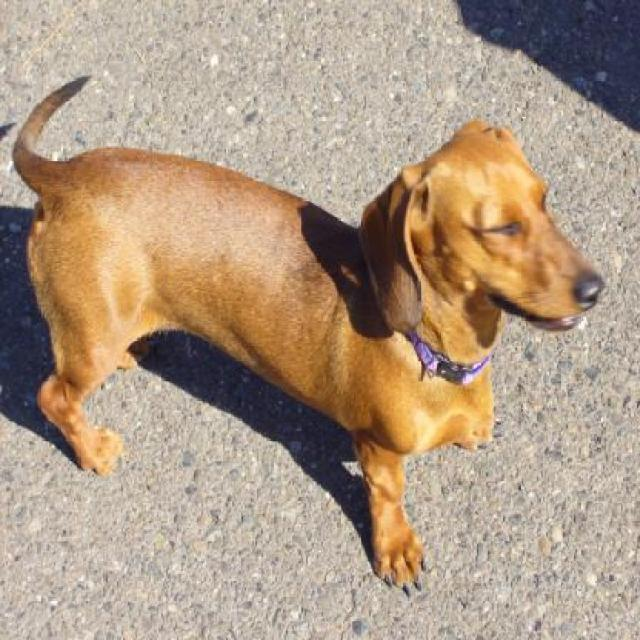Dog: (11, 69, 606, 605)
